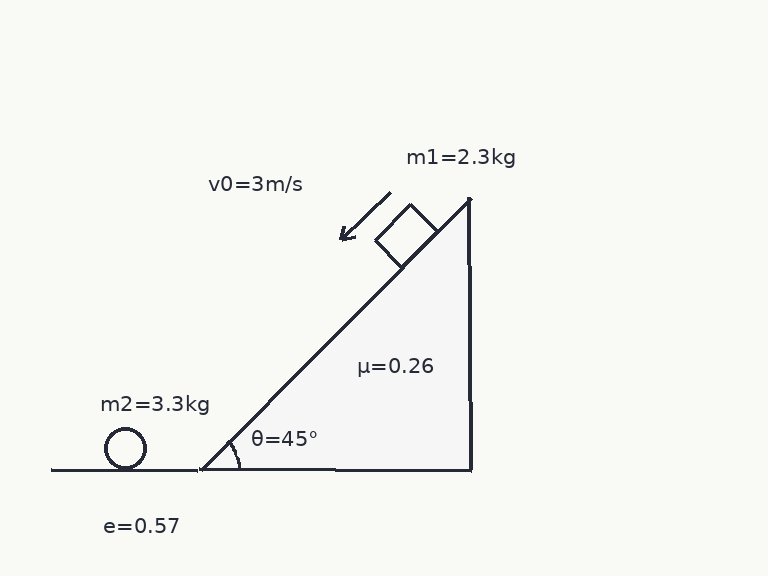ball: (102, 425, 148, 471)
block: (372, 203, 439, 269)
ramp: (197, 195, 473, 471)
